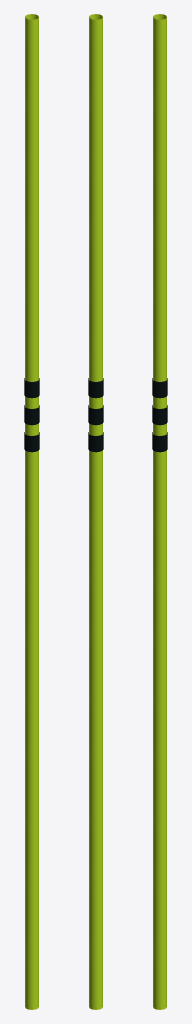
File: pole.glb
3 renders of one model, left to right at view 1: azimuth 30°, elevation 25°; view 2: azimuth 210°, elevation 25°; view 3: azimuth 270°, elevation 25°, orthographic.
Visible parts, largest first — view 1: Fiberglass pole, Grip tape, Grip tape.001, Grip tape.002; view 2: Fiberglass pole, Grip tape, Grip tape.001, Grip tape.002; view 3: Fiberglass pole, Grip tape, Grip tape.001, Grip tape.002.
Boxes of the visible parts, bbox=[...] form: Fiberglass pole: bbox=[25, 14, 38, 1009]; Grip tape: bbox=[24, 432, 39, 452]; Grip tape.001: bbox=[24, 405, 39, 425]; Grip tape.002: bbox=[24, 378, 39, 398]; Fiberglass pole: bbox=[89, 14, 102, 1009]; Grip tape: bbox=[88, 432, 103, 452]; Grip tape.001: bbox=[88, 405, 103, 425]; Grip tape.002: bbox=[88, 378, 103, 398]; Fiberglass pole: bbox=[153, 14, 166, 1009]; Grip tape: bbox=[152, 432, 167, 452]; Grip tape.001: bbox=[152, 405, 167, 425]; Grip tape.002: bbox=[152, 378, 167, 398].
Bounding box in the file's own units: 0.078 × 5.5 × 0.078.
